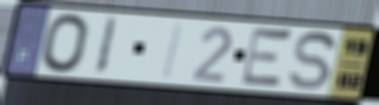2: (188, 25, 235, 85)
E: (237, 24, 296, 92)
I: (91, 15, 121, 78), (159, 21, 187, 82)
O: (38, 12, 93, 76)
S: (287, 29, 338, 93)
